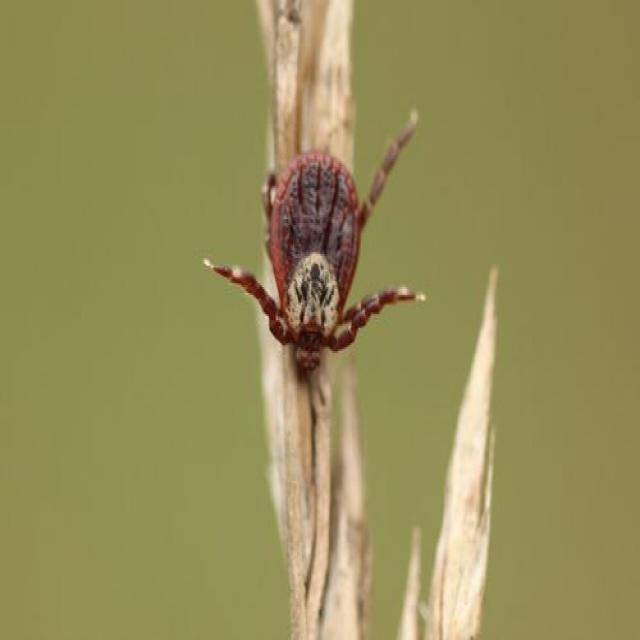Dermacentor Reticulatus-F: (205, 111, 424, 378)
